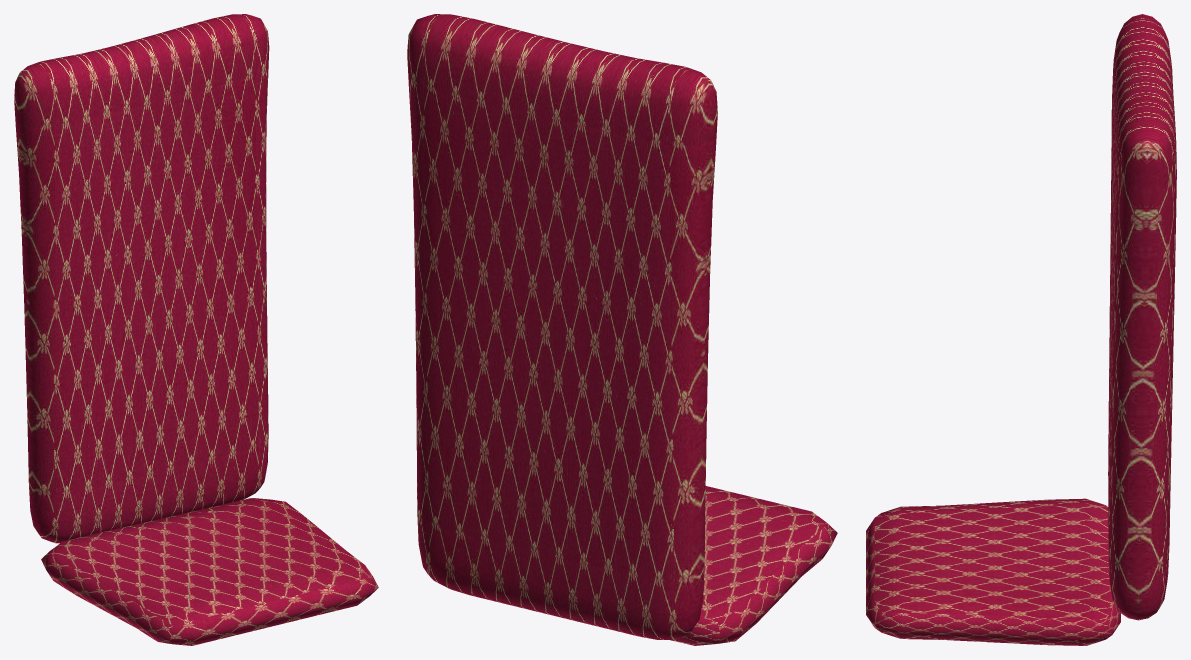
File: chair pillow.fbx
3 views of the same model, side by side, from view 1: azimuth 30°, elevation 25°; view 2: azimuth 150°, elevation 25°; view 3: azimuth 270°, elevation 25° (orthographic). The views are drawn at different scales.
Parts seen in each view (by area): view 1: pCube710, pasted__pasted__pCube711; view 2: pCube710, pasted__pasted__pCube711; view 3: pCube710, pasted__pasted__pCube711.
Part boxes in pixels (bbox=[...]): pCube710: bbox=[14, 14, 269, 543]; pasted__pasted__pCube711: bbox=[41, 498, 378, 645]; pCube710: bbox=[407, 14, 717, 639]; pasted__pasted__pCube711: bbox=[670, 486, 837, 645]; pCube710: bbox=[1108, 14, 1176, 620]; pasted__pasted__pCube711: bbox=[866, 498, 1120, 645].
Size of the model in its own units: 48.76 by 92.9 by 50.18.
